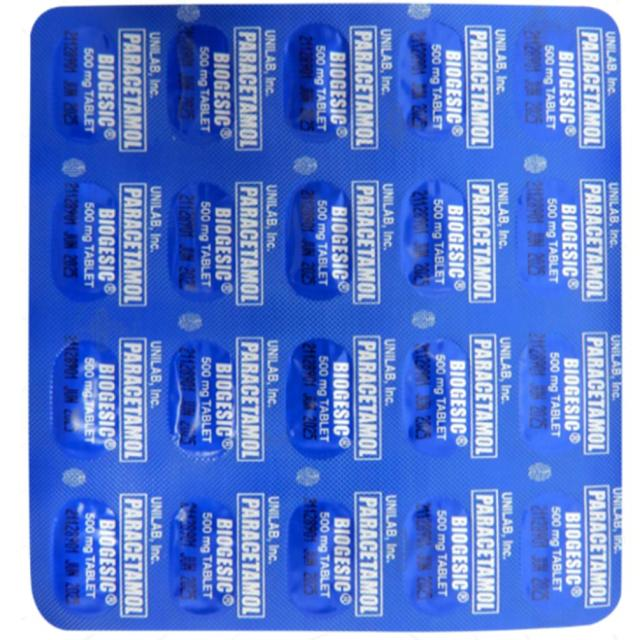blister: (30, 2, 627, 635)
